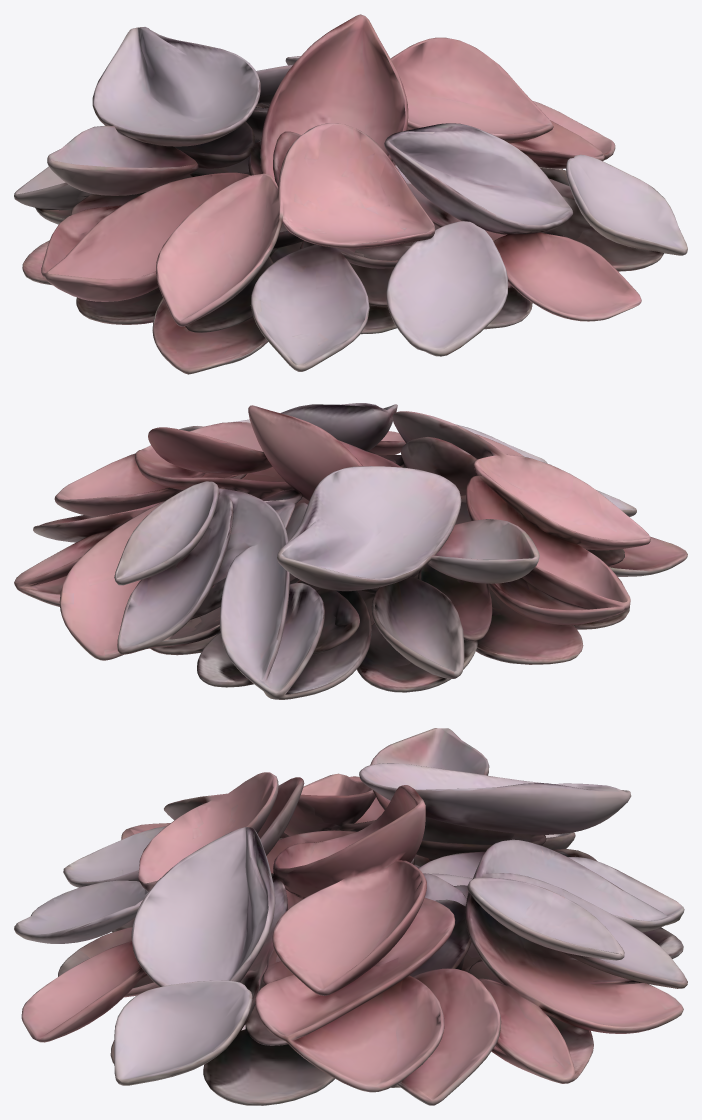
The model's file is petal_pile.glb.
3 views of the same model, one above another, from view 1: azimuth 30°, elevation 25°; view 2: azimuth 150°, elevation 25°; view 3: azimuth 270°, elevation 25° (orthographic). The views are drawn at different scales.
Visible parts, largest first — view 1: node_0; view 2: node_0; view 3: node_0.
Part boxes in pixels (left/top/right/bottom): node_0: left=14, top=14, right=687, bottom=374; node_0: left=14, top=403, right=687, bottom=699; node_0: left=14, top=728, right=687, bottom=1105.
Size of the model in its own units: 1.08 by 0.3319 by 1.03.
1 material, 1 textured.
